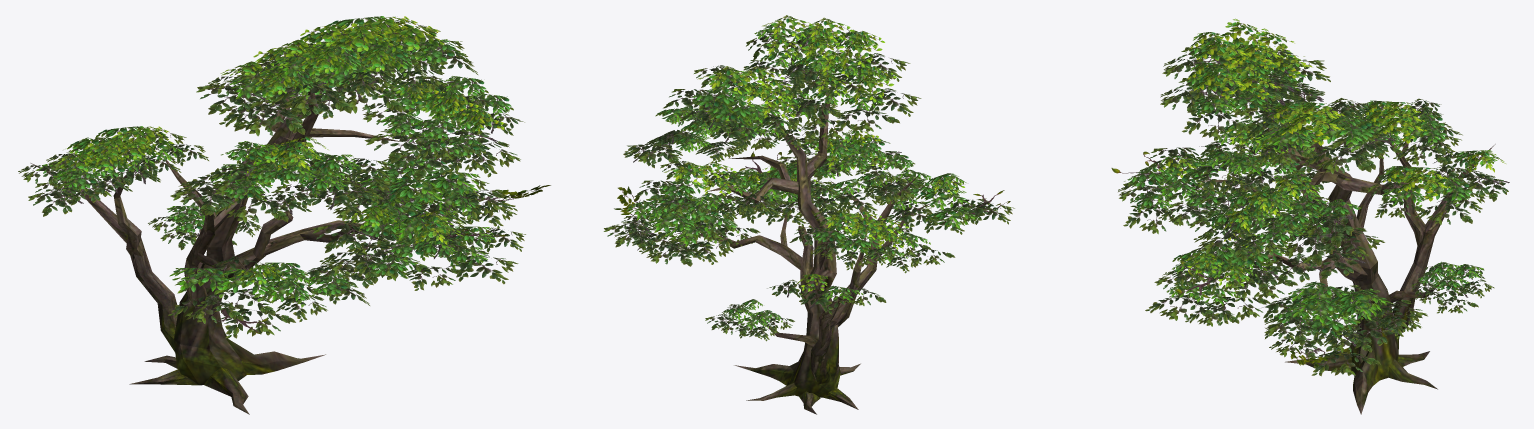
Rendered from Hangzhou_wj_029.FBX.
3 views of the same model, side by side, from view 1: azimuth 30°, elevation 25°; view 2: azimuth 150°, elevation 25°; view 3: azimuth 270°, elevation 25° (orthographic). The views are drawn at different scales.
Visible parts, largest first — view 1: Object001, new_shuzi001; view 2: Object001, new_shuzi001; view 3: Object001, new_shuzi001.
Part boxes in pixels (x1,y1,x2,y2): Object001: [18, 16, 550, 338]; new_shuzi001: [30, 85, 401, 414]; Object001: [603, 15, 1014, 341]; new_shuzi001: [677, 86, 931, 414]; Object001: [1111, 18, 1509, 376]; new_shuzi001: [1201, 84, 1495, 414].
Bounding box in the file's own units: 420 × 322 × 366.
